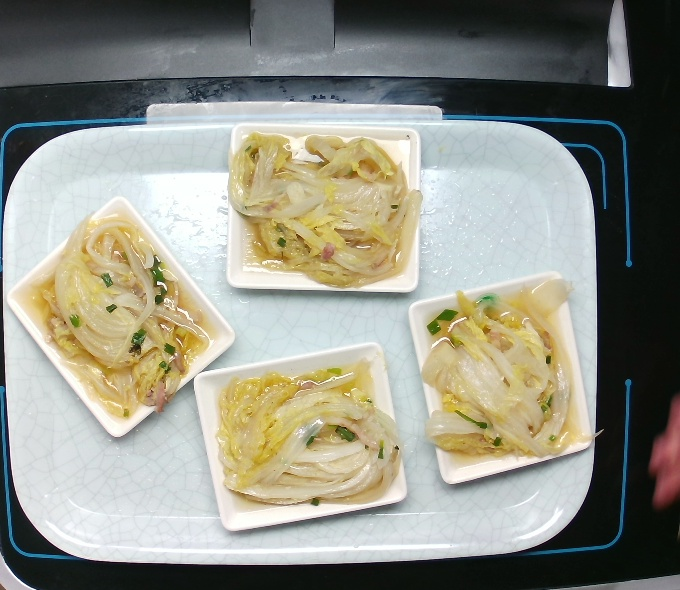wcq-DaBaiCaiRouMou: (4, 188, 239, 442), (188, 337, 414, 537), (404, 268, 599, 486), (218, 115, 428, 298)
